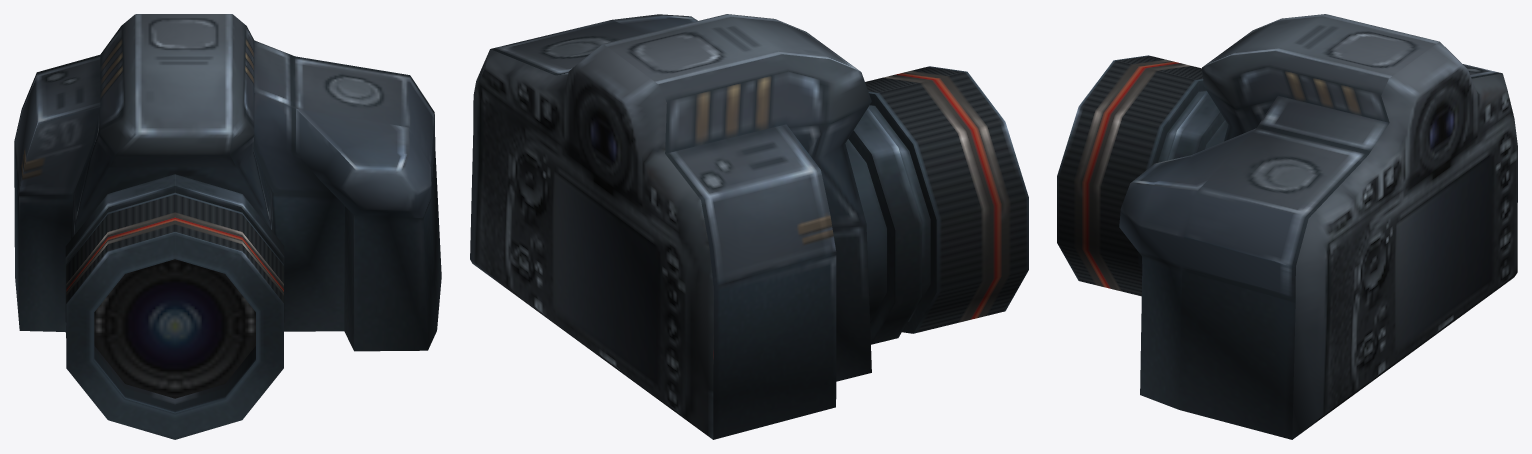
Rendered from ShaShouJia_01_xiangji_01.FBX.
The picture shows the model from 3 angles, left to right: view 1: azimuth 30°, elevation 25°; view 2: azimuth 150°, elevation 25°; view 3: azimuth 270°, elevation 25°; orthographic projection. The views are drawn at different scales.
Visible parts, largest first — view 1: ShaShouJia_01_xiangji_01; view 2: ShaShouJia_01_xiangji_01; view 3: ShaShouJia_01_xiangji_01.
Part boxes in pixels (<box>): ShaShouJia_01_xiangji_01: <box>14,14,441,439</box>; ShaShouJia_01_xiangji_01: <box>470,14,1028,439</box>; ShaShouJia_01_xiangji_01: <box>1057,14,1517,439</box>.
Bounding box in the file's own units: 125 × 78 × 111.
